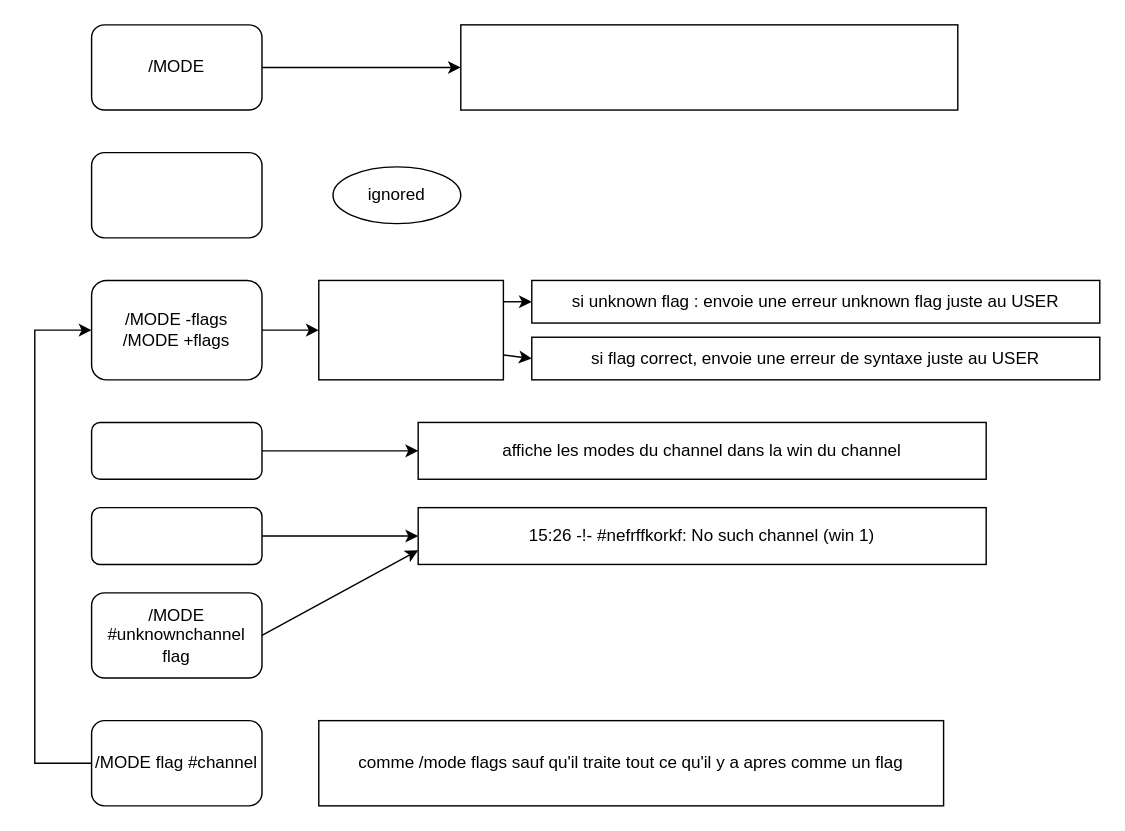
This 1125x831 diagram has some shape labels left out. The centre of each missing label's shape, as x and y in pixels:
/MODE #channel: point 176,450
/MODE #unknownchannel: point 176,535
/MODE - /MODE +: point 176,194
15:01 -!- Irssi: Not enough parameters given (win 1): point 708,66
traite chaque flag: point 410,329
